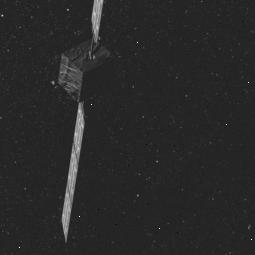smart_1: (46, 9, 125, 197)
